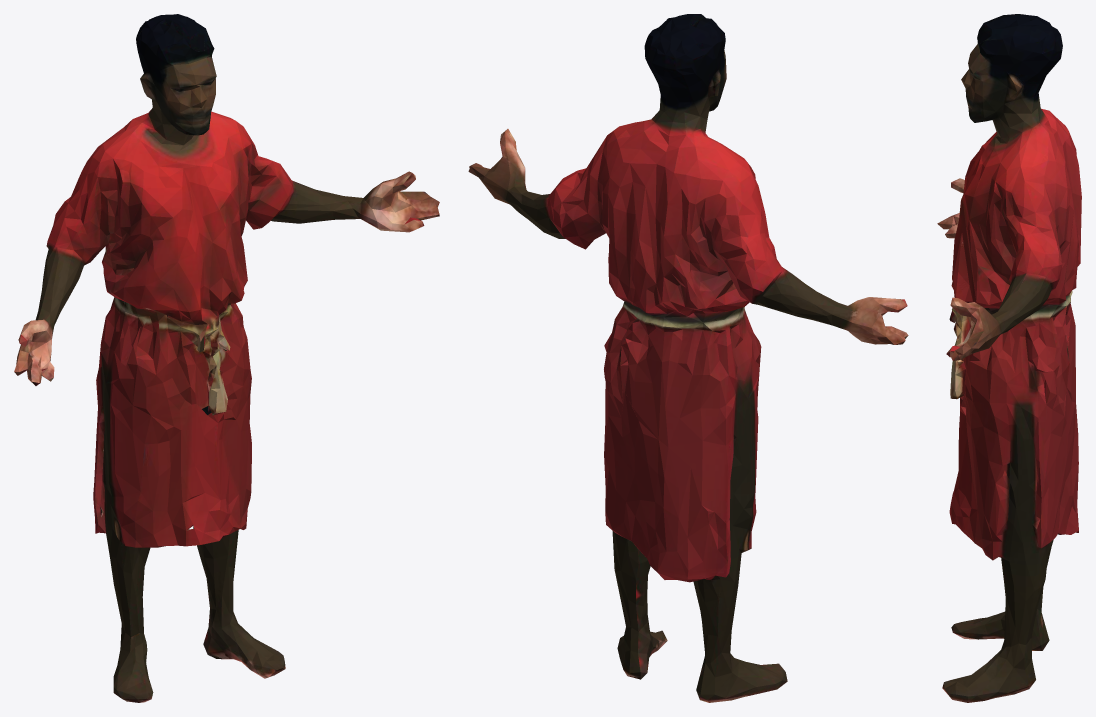
Rendered from palmares_aldeano.glb.
3 renders of one model, left to right at view 1: azimuth 30°, elevation 25°; view 2: azimuth 150°, elevation 25°; view 3: azimuth 270°, elevation 25°, orthographic. The views are drawn at different scales.
Visible parts, largest first — view 1: aldeano; view 2: aldeano; view 3: aldeano.
Boxes of the visible parts, x1,y1,x2,y2 form: aldeano: [14, 14, 439, 702]; aldeano: [468, 14, 908, 702]; aldeano: [937, 14, 1081, 702].
Size of the model in its own units: 0.5138 by 0.75 by 0.1517.
Materials: 1 (1 with a texture image).
